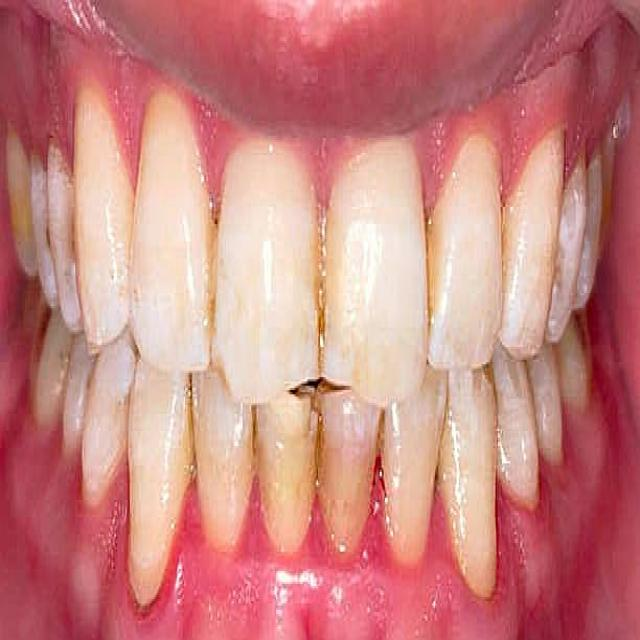caries: (274, 363, 329, 461)
